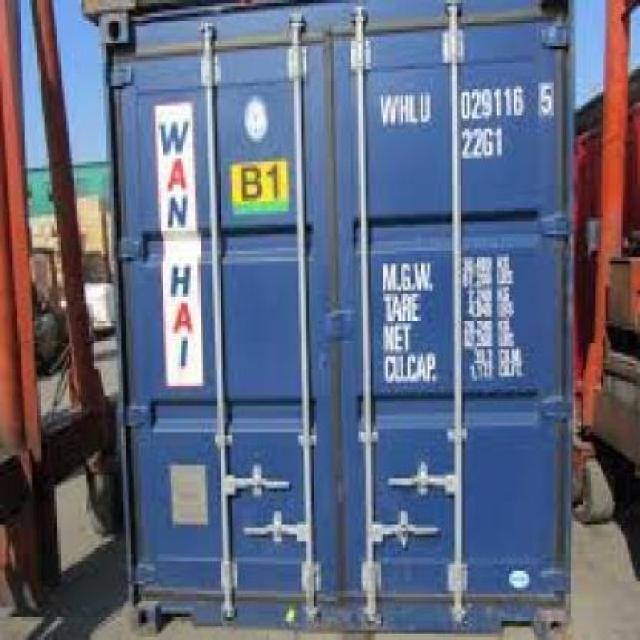ISO: (460, 126, 505, 158)
container_number: (382, 88, 552, 118)
